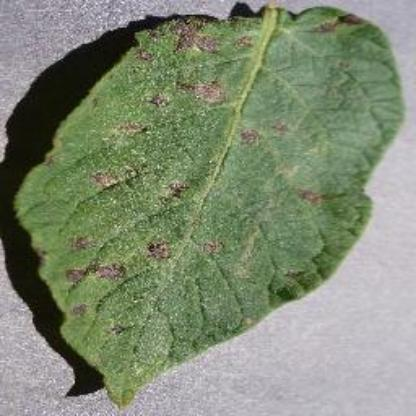Early-Blight: (16, 9, 410, 404)
